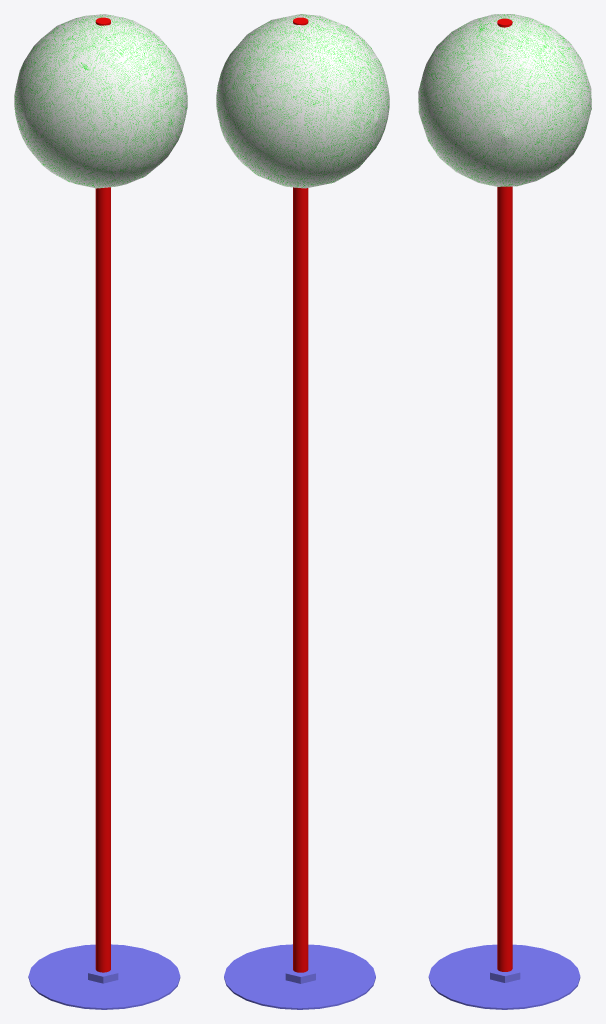
Rendered from green_Flower.dae.
The picture shows the model from 3 angles, left to right: view 1: azimuth 30°, elevation 25°; view 2: azimuth 150°, elevation 25°; view 3: azimuth 270°, elevation 25°; orthographic projection.
Visible parts, largest first — view 1: SketchUp_009, SketchUp_007, SketchUp_002, SketchUp_001; view 2: SketchUp_009, SketchUp_007, SketchUp_002, SketchUp_001; view 3: SketchUp_009, SketchUp_007, SketchUp_002, SketchUp_001.
Part boxes in pixels (<box>): SketchUp_009: <box>14,14,187,188</box>; SketchUp_007: <box>95,17,110,972</box>; SketchUp_002: <box>28,944,180,1009</box>; SketchUp_001: <box>88,964,118,983</box>; SketchUp_009: <box>216,14,389,188</box>; SketchUp_007: <box>293,17,308,972</box>; SketchUp_002: <box>224,944,375,1009</box>; SketchUp_001: <box>285,964,315,983</box>; SketchUp_009: <box>418,14,591,186</box>; SketchUp_007: <box>497,18,512,971</box>; SketchUp_002: <box>428,944,580,1009</box>; SketchUp_001: <box>490,963,520,982</box>.
Size of the model in its own units: 0.456 by 0.4579 by 2.78.
